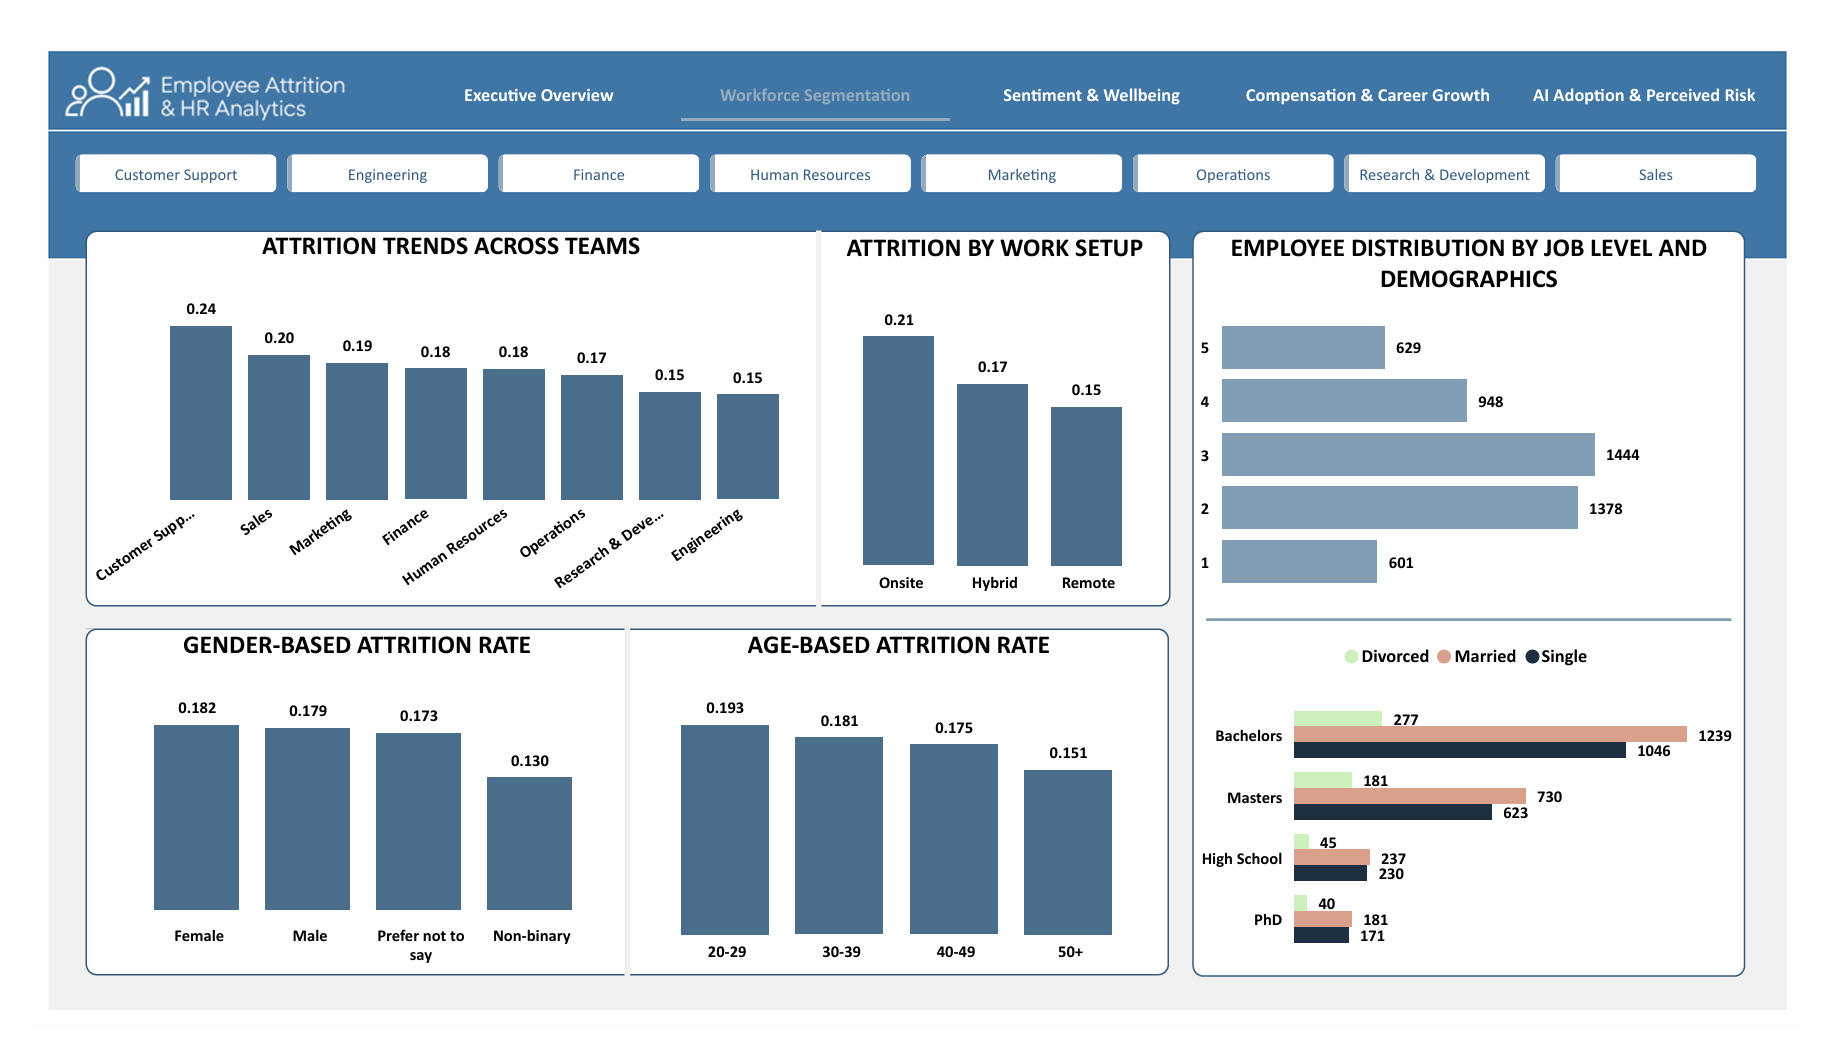

The page's visual inventory and layout, read from the dashboard file:
{"tool":"powerbi","page":{"name":"Workforce Segmentation","canvas":[1280,720],"ordinal":2},"visuals":[{"type":"shape","box":[838.8,142.5,400,540],"z":0},{"type":"shape","box":[37.8,431.1,784.4,251.1],"z":1000},{"type":"columnChart","title":"GENDER-BASED ATTRITION RATE","fields":{"Category":["vw_dashboard_employees.gender"],"Y":["measures_table.Attrition Rate"]},"box":[38.8,431.2,391.2,251.2],"z":2000},{"type":"columnChart","title":"AGE-BASED ATTRITION RATE","fields":{"Y":["measures_table.Attrition Rate"],"Category":["vw_dashboard_employees.age_group"]},"box":[431.1,431.1,391,251.1],"z":3000},{"type":"shape","box":[37.5,142.5,785,272.5],"z":4000},{"type":"clusteredColumnChart","title":"ATTRITION TRENDS ACROSS TEAMS","fields":{"Category":["vw_dashboard_employees.department"],"Y":["measures_table.Attrition Rate"]},"box":[37.4,142.4,530.8,272.7],"z":5000},{"type":"clusteredColumnChart","title":"ATTRITION BY WORK SETUP","fields":{"Category":["vw_dashboard_employees.work_mode"],"Y":["measures_table.Attrition Rate"]},"box":[568.8,142.5,253.8,272.5],"z":6000},{"type":"clusteredBarChart","title":"EMPLOYEE DISTRIBUTION BY JOB LEVEL AND DEMOGRAPHICS","fields":{"Category":["vw_dashboard_employees.job_level"],"Y":["measures_table.Total Employees"]},"box":[838.8,142.5,400,268.8],"z":7000},{"type":"clusteredBarChart","fields":{"Y":["measures_table.Total Employees"],"Category":["vw_dashboard_employees.education_level"],"Series":["vw_dashboard_employees.marital_status"]},"box":[838.8,431.2,400,251.2],"z":8000},{"type":"pageNavigator","box":[268.6,24.3,995.7,40],"z":9000},{"type":"advancedSlicerVisual","fields":{"Values":["vw_dashboard_employees.department"]},"box":[26.2,82.5,1226.2,37.5],"z":10000},{"type":"shape","box":[540,142.5,56.5,276],"z":11000},{"type":"shape","box":[402,427.5,56,255.5],"z":12000},{"type":"shape","box":[848.3,406.5,381.7,35.2],"z":13000}]}

Visuals, with their boxes in screenshot pixels (x1, y1, x2, y2), scaled from the page's 1280x720 canvas onto the 1835x1061 screenshot:
shape: box(1202, 210, 1776, 1006)
shape: box(54, 635, 1179, 1005)
"GENDER-BASED ATTRITION RATE" columnChart: box(56, 635, 616, 1006)
"AGE-BASED ATTRITION RATE" columnChart: box(618, 635, 1179, 1005)
shape: box(54, 210, 1179, 612)
"ATTRITION TRENDS ACROSS TEAMS" clusteredColumnChart: box(54, 210, 815, 612)
"ATTRITION BY WORK SETUP" clusteredColumnChart: box(815, 210, 1179, 612)
"EMPLOYEE DISTRIBUTION BY JOB LEVEL AND DEMOGRAPHICS" clusteredBarChart: box(1202, 210, 1776, 606)
clusteredBarChart - measures_table.Total Employees x vw_dashboard_employees.education_level: box(1202, 635, 1776, 1006)
pageNavigator: box(385, 36, 1812, 95)
advancedSlicerVisual - vw_dashboard_employees.department: box(38, 122, 1795, 177)
shape: box(774, 210, 855, 617)
shape: box(576, 630, 657, 1006)
shape: box(1216, 599, 1763, 651)
